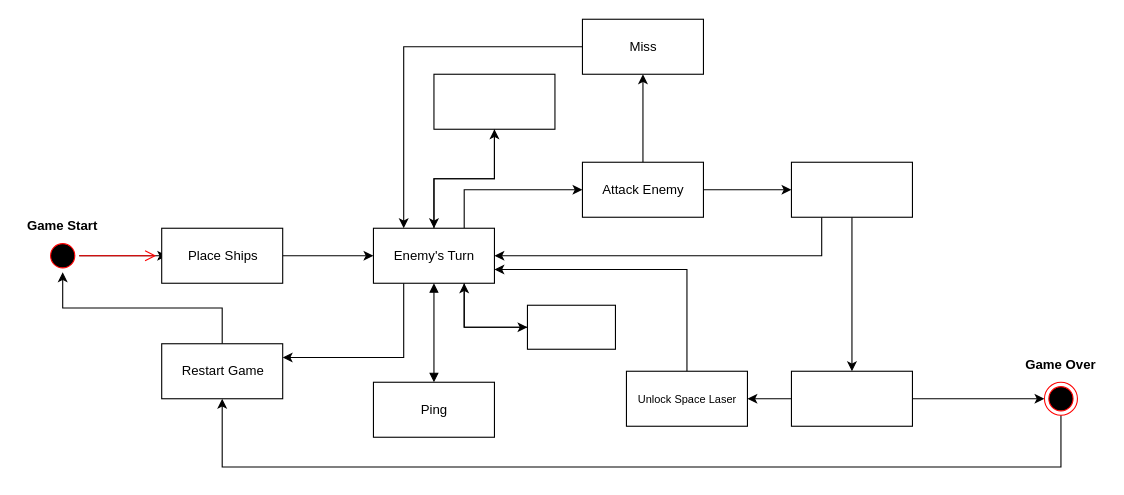
The diagram is 1124 pixels wide and 495 high, and some of its shapes have lost their labels. The centre of each missing label's shape, as x and y in pixels:
Enemy Ship Destroyed: [851,398]
Hit: [851,189]
Invalid Move: [570,326]
Move ships: [494,101]
